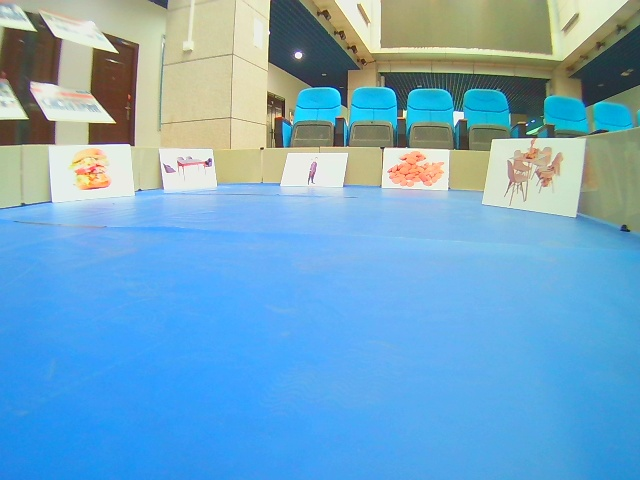food: (48, 144, 136, 203), (383, 146, 449, 194)
person: (280, 151, 349, 189)
table: (483, 137, 585, 217), (159, 148, 220, 193)
